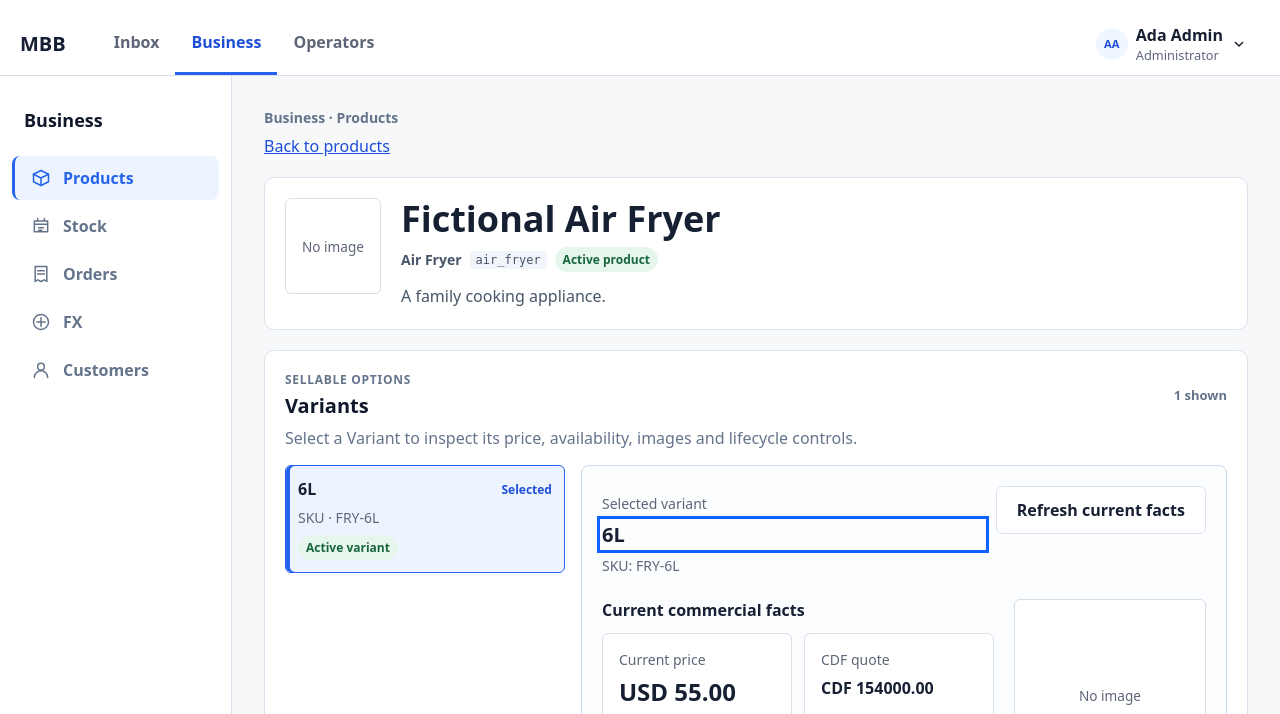
it: shared Business Products › changes price as a decimal string with CSRF and rereads the Product Offer
The width and height of the screenshot is (1280, 714).
Step 1. Click the button with aria-label "6L · FRY-6L" → [527, 489], box [285,465,565,573]
(page scrolled)
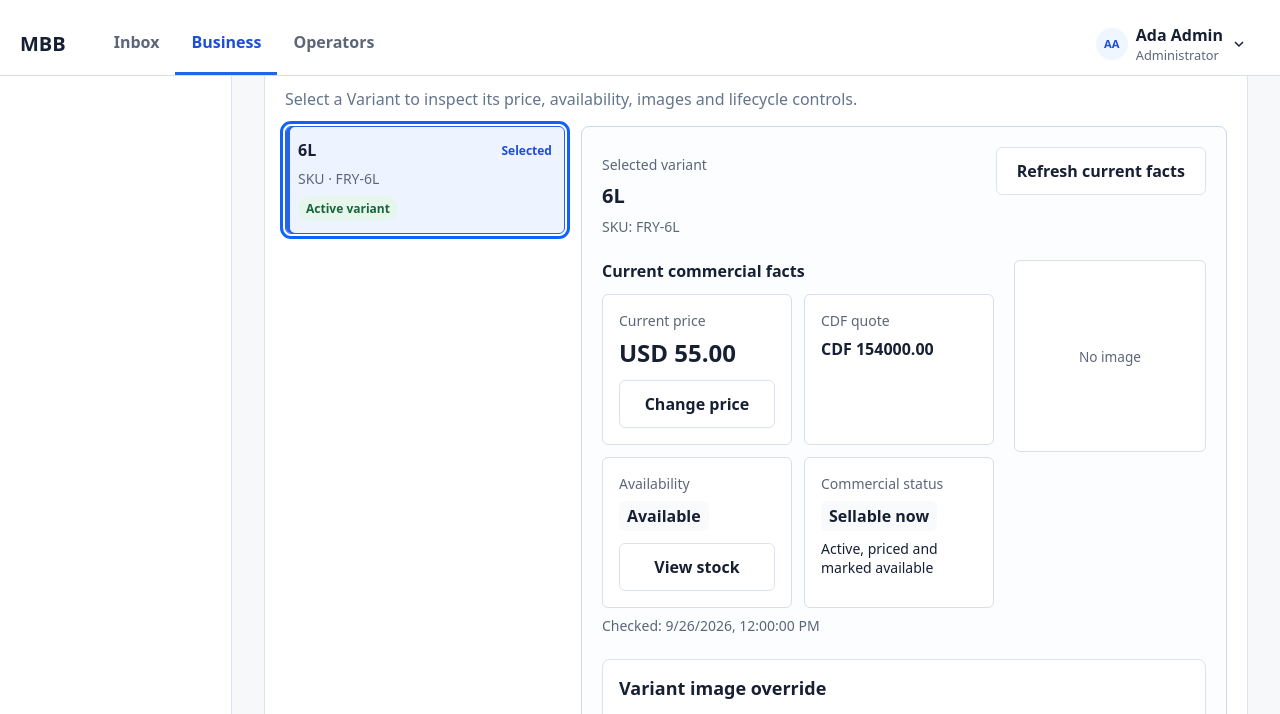
Expected: the heading "6L" is shown, [602,182,625,209]
Step 2. Click the button "Change price" → [697, 404], box [619,380,775,428]
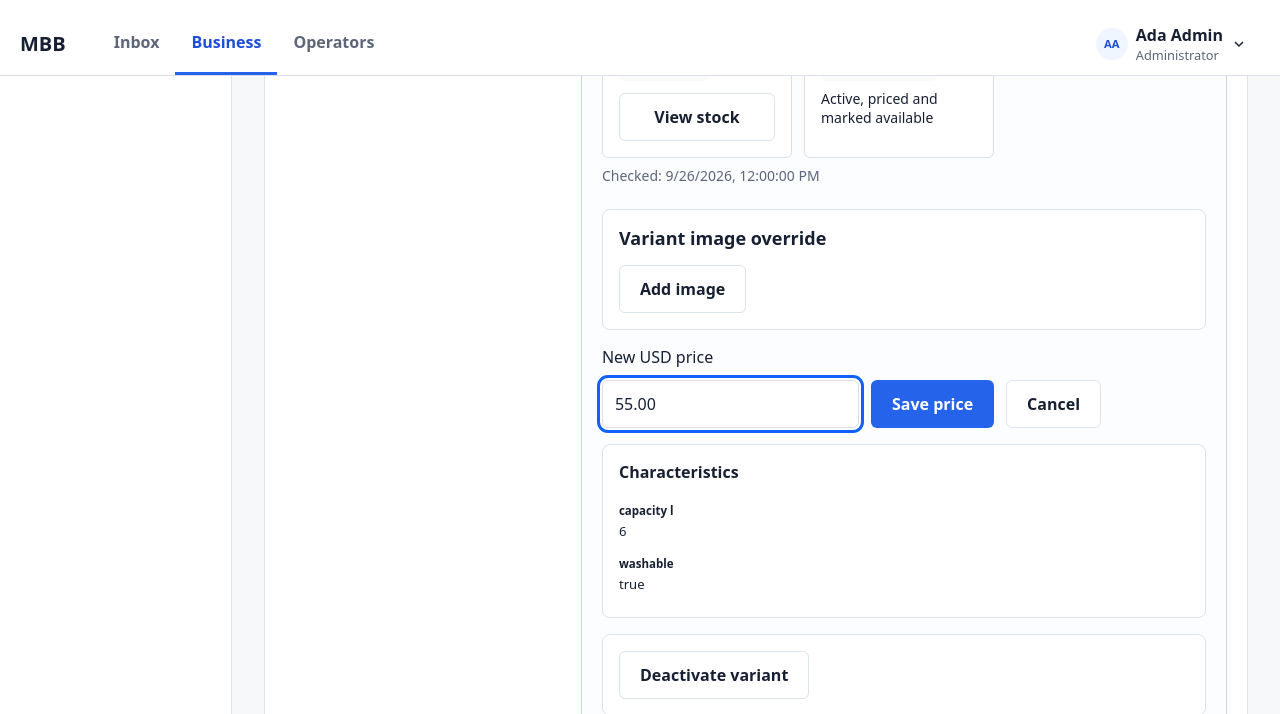
Step 3. Replace the text in the field labelled "New USD price" with "60.25" → [730, 404], box [602,380,859,428]
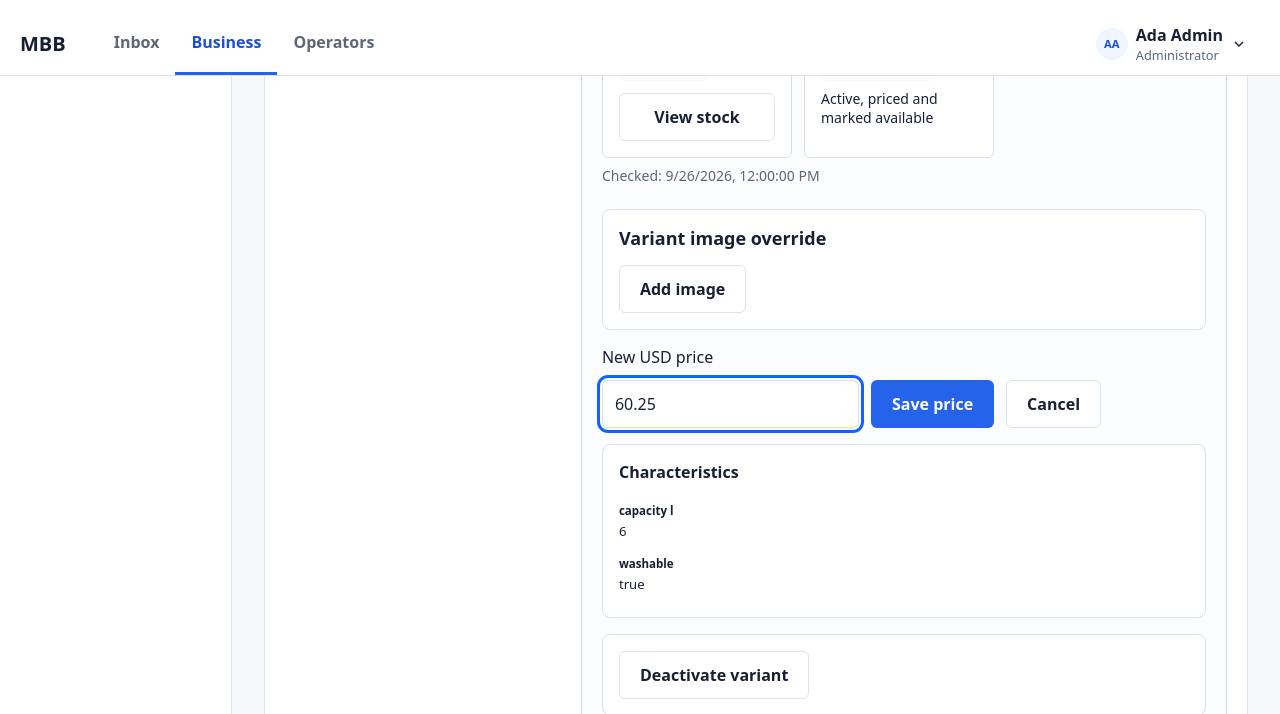
Step 4. Click the button "Save price" → [933, 404], box [871,380,994,428]
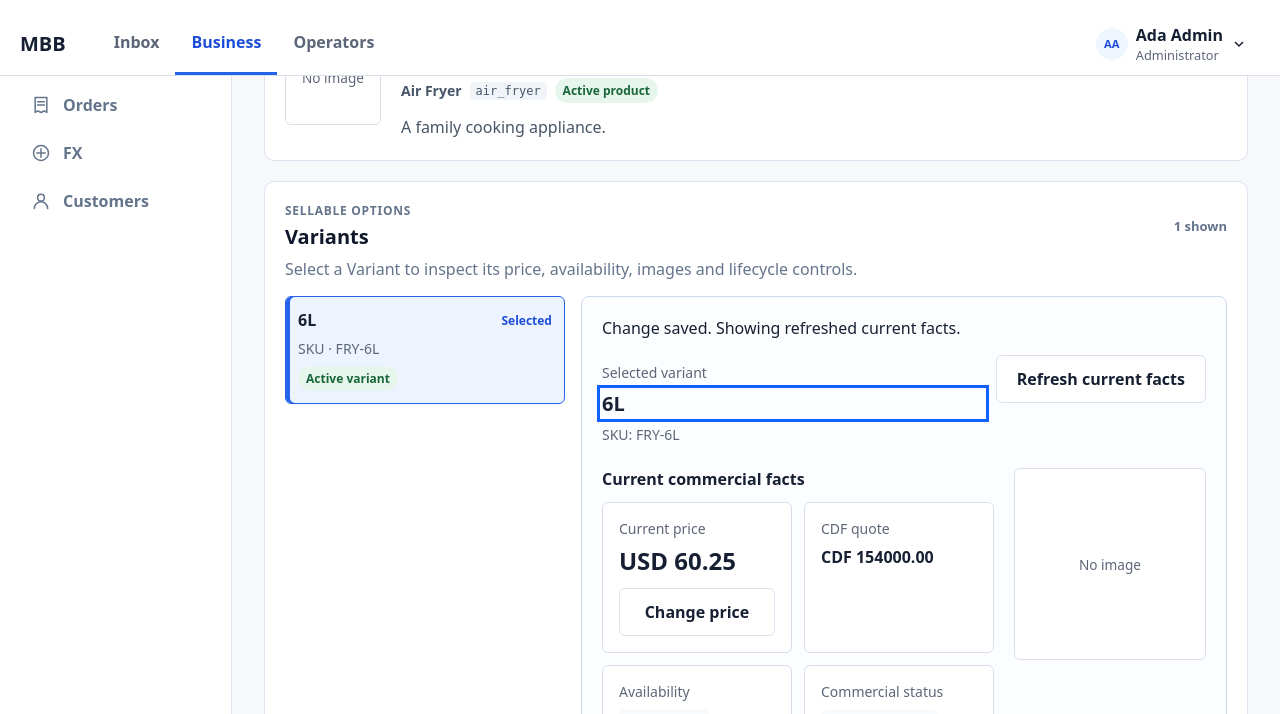
Expected: the text "USD 60.25" is shown, [619,544,736,577]
Expected: the text "Change saved. Showing refreshed current facts." is shown, [602,317,960,339]
